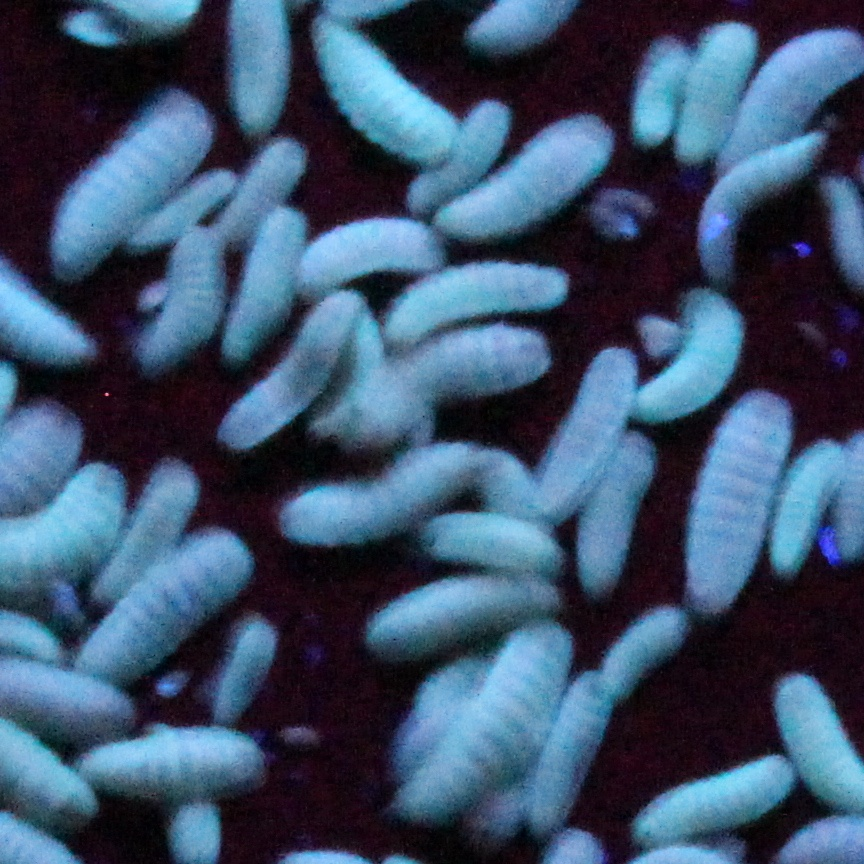larve: (26, 89, 214, 278), (215, 286, 368, 454), (434, 109, 628, 239), (691, 378, 794, 622), (437, 623, 566, 811), (306, 12, 472, 158), (274, 449, 489, 551), (86, 536, 248, 669), (527, 337, 639, 529), (363, 561, 566, 649), (692, 144, 818, 279), (632, 286, 746, 435), (524, 659, 617, 837), (568, 432, 664, 592), (374, 262, 574, 336), (129, 235, 235, 362), (638, 756, 796, 840), (77, 732, 266, 798), (589, 604, 709, 702), (295, 208, 446, 284), (103, 441, 201, 557), (202, 609, 285, 729), (629, 29, 689, 149)
